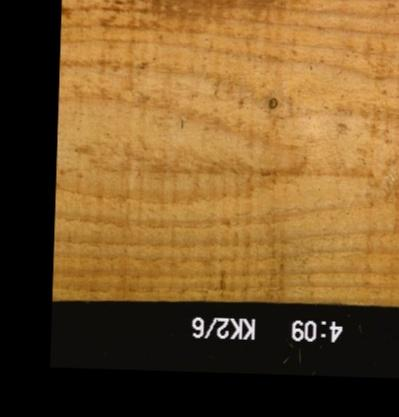dry_knot: (266, 96, 277, 109)
